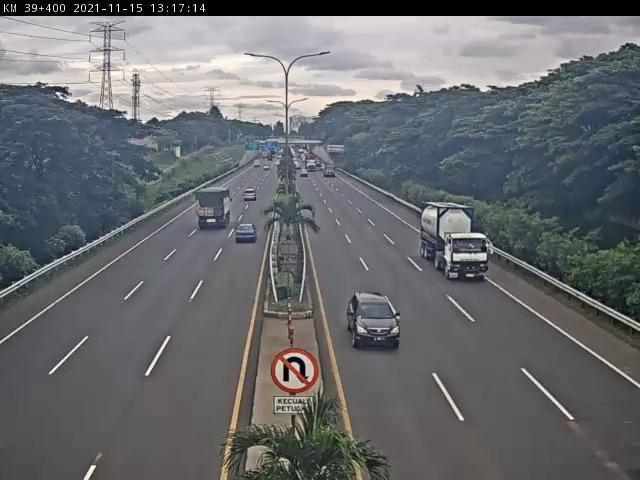car: (346, 291, 404, 352), (235, 220, 260, 246)
truck: (419, 199, 492, 281), (196, 186, 235, 230)
